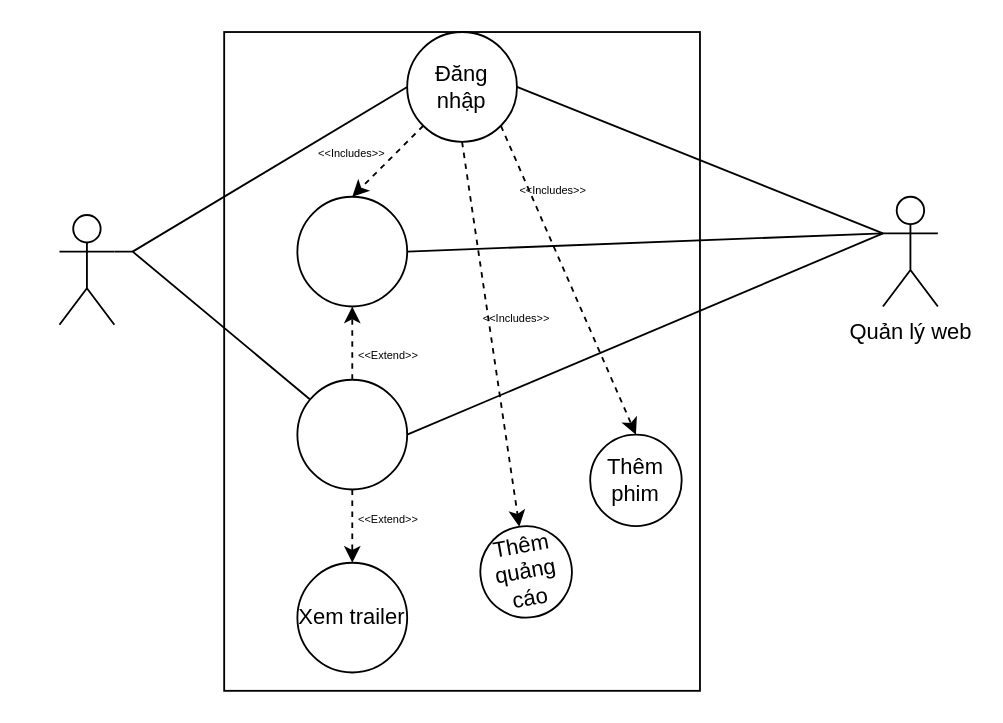
The diagram is 1003 pixels wide and 723 high, and some of its shapes have lost their labels. The box of each missing label's shape, as (x1, y1, x2, y2) in pixels:
Người xem: (58, 213, 114, 325)
Xem bình luận: (296, 195, 407, 307)
Xem chi tiết phim: (296, 378, 407, 490)
